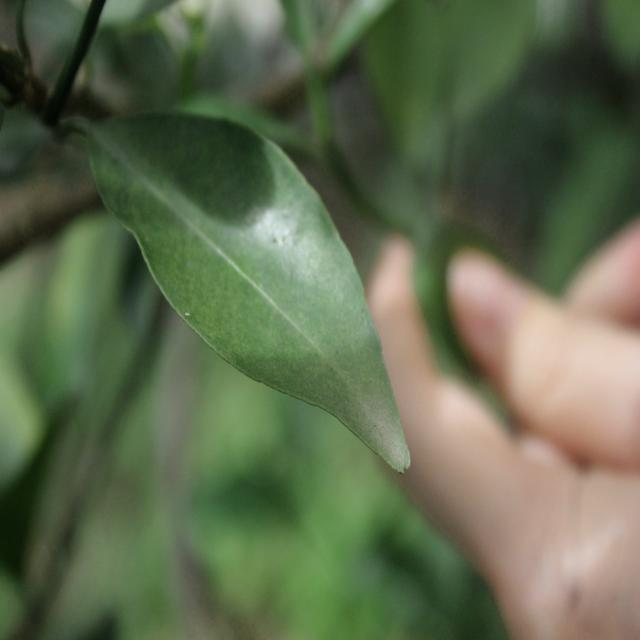blackspot: (162, 141, 399, 456)
